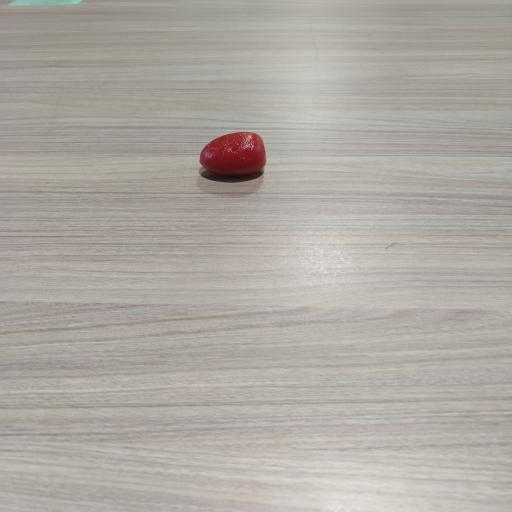spoiled: (200, 132, 266, 176)
